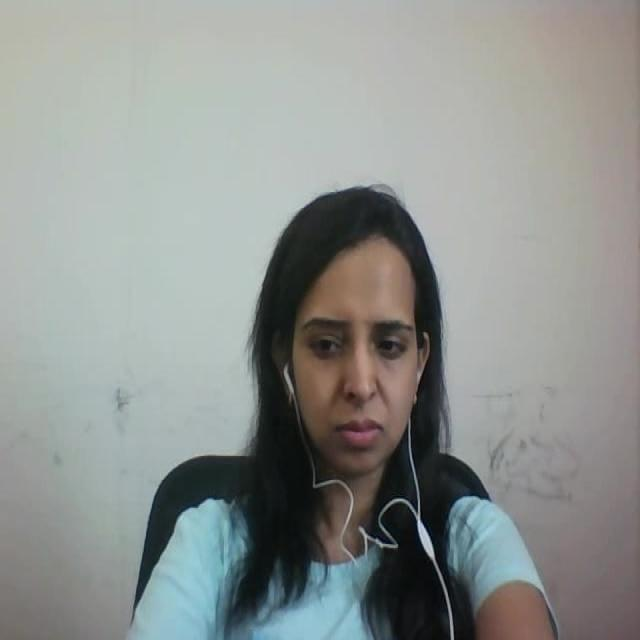Engaged: (241, 184, 462, 509)
